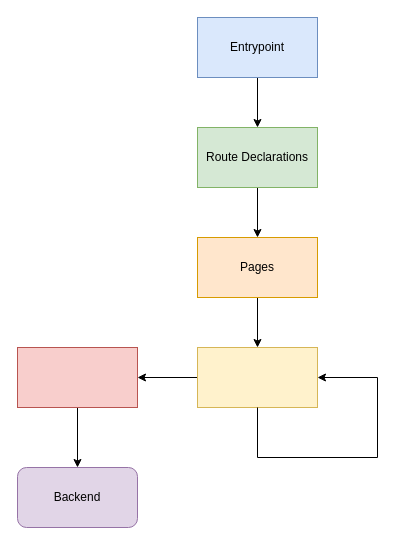
Image size: 403x545. Some labels were removed from this diagram. Here are the shapes that lost their labels. From the top down, the centre of each, then its label:
At (77,377): "Services".
At (257,377): "Components".
